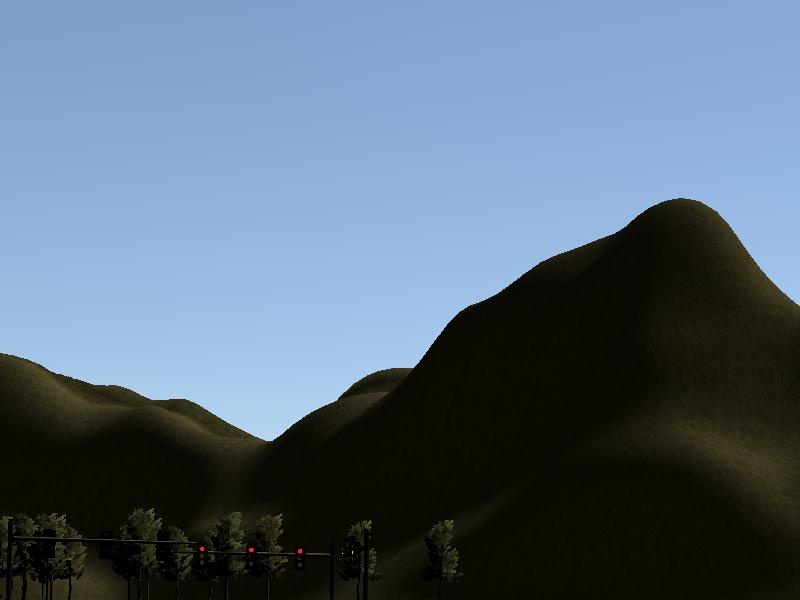RED: (194, 541, 210, 569), (245, 543, 259, 574), (292, 544, 308, 570)
